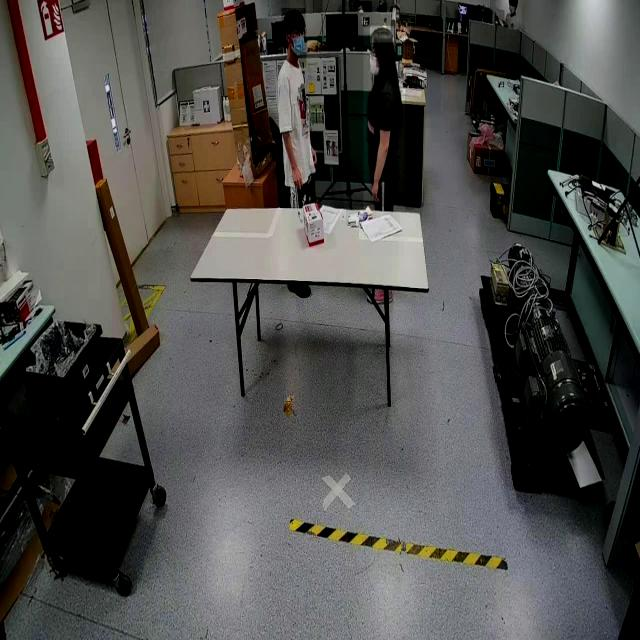face_mask: (289, 28, 307, 68), (369, 54, 379, 78)
hand_noglove: (291, 166, 303, 191), (370, 180, 380, 204), (310, 144, 318, 165)
head_nohelmet: (282, 8, 306, 27), (370, 26, 394, 44)
person: (273, 15, 319, 209), (364, 28, 406, 212)
